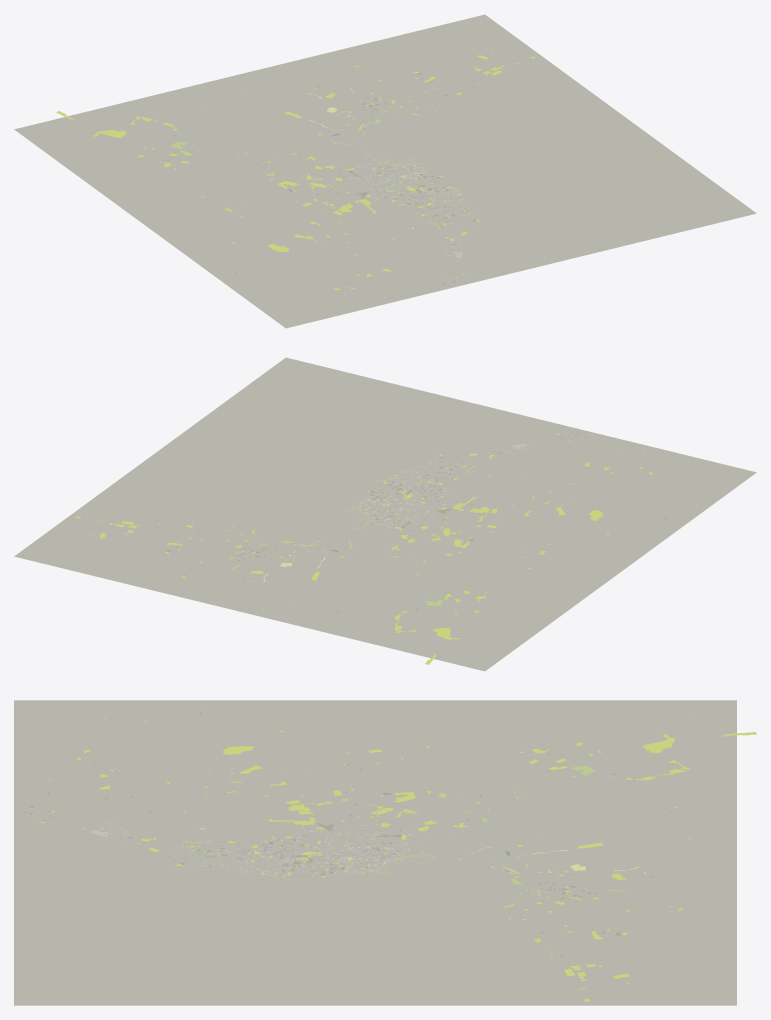
The model's file is TILE_04_00_REST_BATCH_10.glb.
The picture shows the model from 3 angles, top to bottom: view 1: azimuth 30°, elevation 25°; view 2: azimuth 150°, elevation 25°; view 3: azimuth 270°, elevation 25°; orthographic projection. The views are drawn at different scales.
Parts seen in each view (by area): view 1: WEB_base, WEB_landuse_mi; view 2: WEB_base, WEB_landuse_mi; view 3: WEB_base, WEB_landuse_mi, WEB_landuse_al, WEB_landuse_me, WEB_landuse_ce.
Boxes of the visible parts, bbox=[...] form: WEB_base: bbox=[14, 14, 756, 328]; WEB_landuse_mi: bbox=[232, 55, 535, 290]; WEB_base: bbox=[14, 357, 756, 671]; WEB_landuse_mi: bbox=[75, 440, 653, 606]; WEB_base: bbox=[14, 700, 736, 1005]; WEB_landuse_mi: bbox=[51, 730, 691, 1001]; WEB_landuse_al: bbox=[77, 732, 756, 990]; WEB_landuse_me: bbox=[82, 746, 627, 946]; WEB_landuse_ce: bbox=[49, 705, 716, 989].
Bounding box in the file's own units: 617 × 0.085 × 634.
